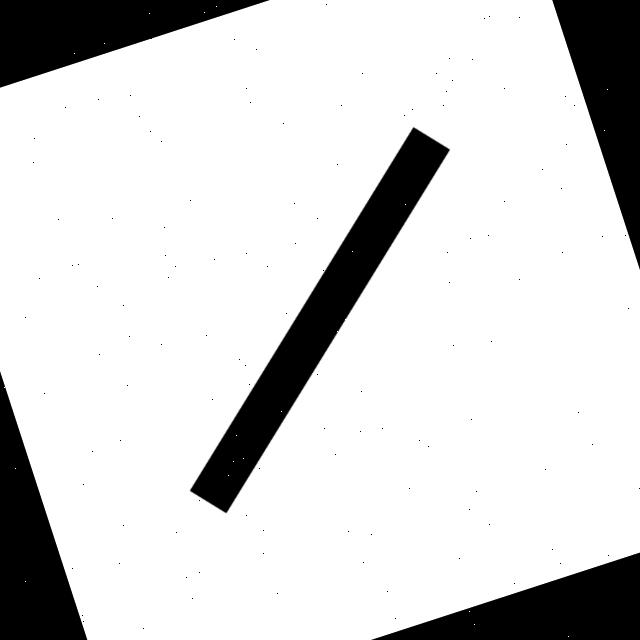line: (190, 127, 450, 513)
